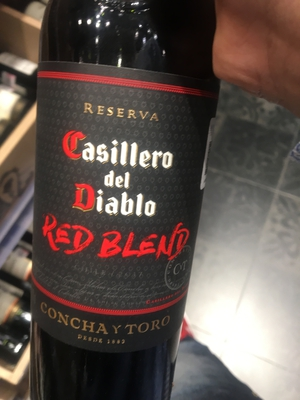casillero del diablo red blend: (22, 43, 231, 390)
